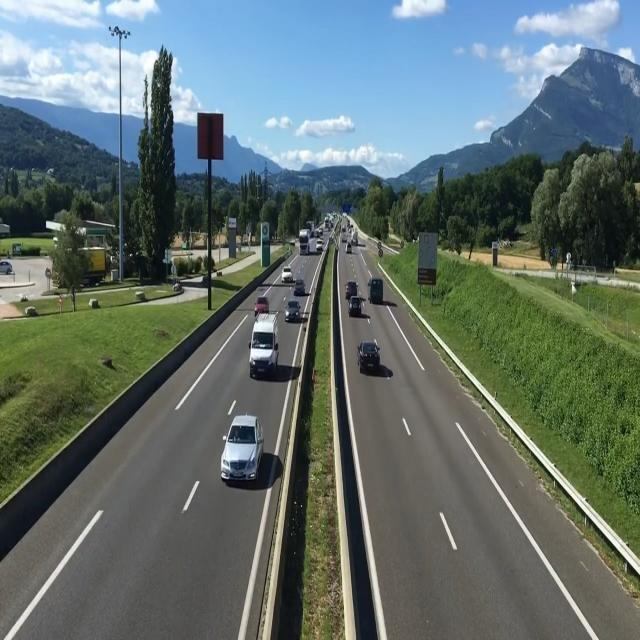Car: (219, 412, 269, 486), (353, 334, 382, 372), (367, 273, 393, 306), (341, 277, 362, 300), (252, 293, 270, 318), (279, 260, 296, 285), (285, 296, 300, 324), (346, 295, 364, 318), (344, 233, 360, 253), (294, 274, 308, 293), (314, 236, 326, 256)
Truck: (296, 225, 311, 257)
Van: (246, 310, 283, 384)
